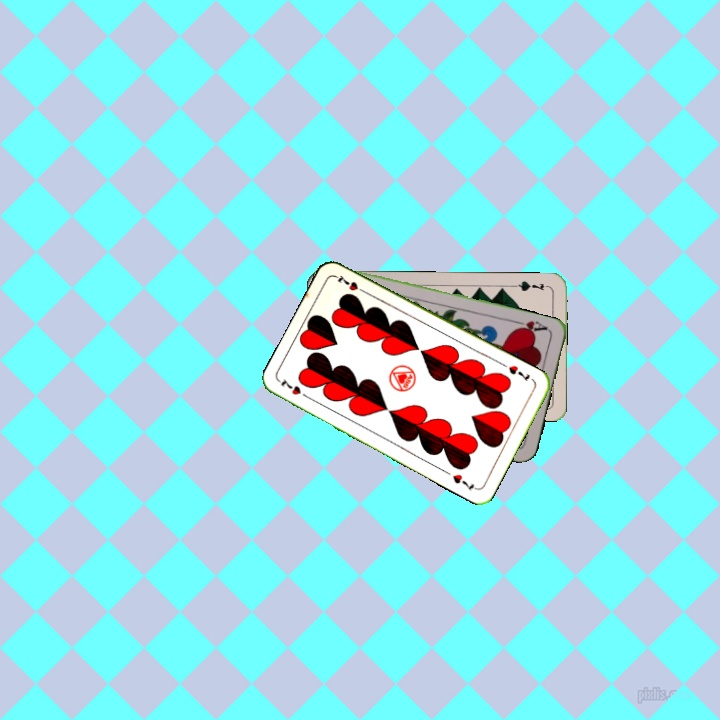G7: (511, 277, 551, 294)
H7: (276, 374, 313, 402), (504, 361, 533, 384)
HA: (510, 317, 551, 336)
